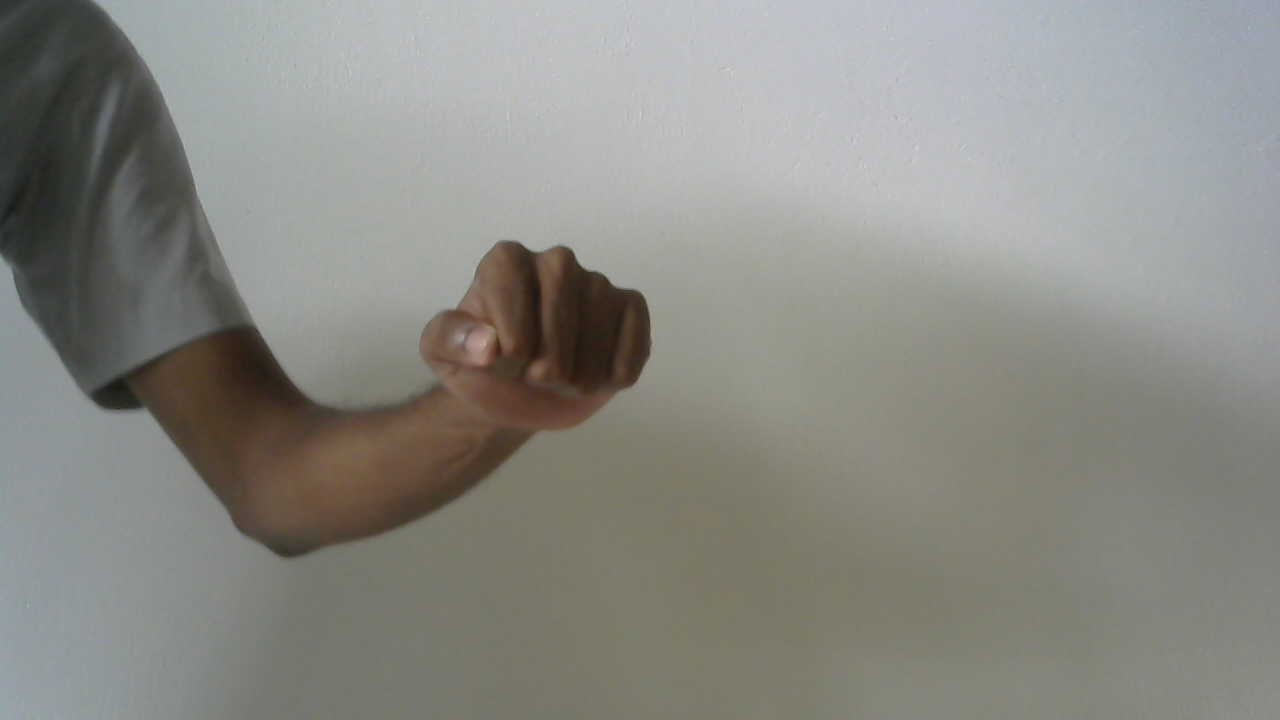yes: (404, 210, 669, 458)
